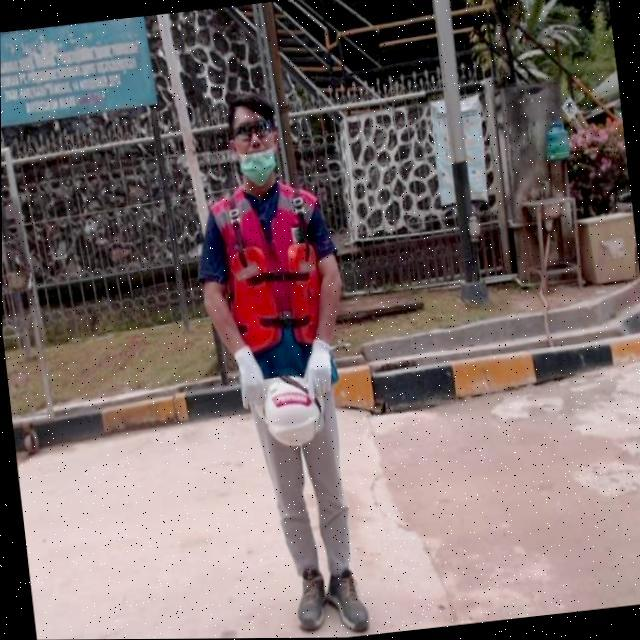goggles_on: (226, 115, 281, 143)
